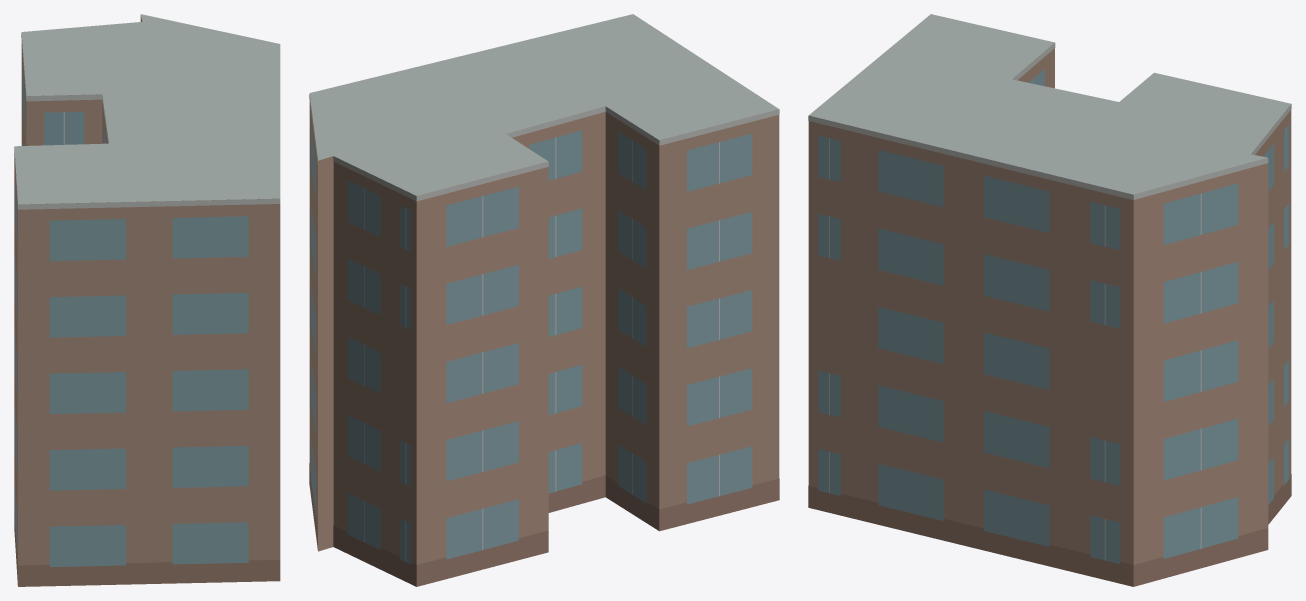
Rendered from survey-upis-32498516.glb.
The picture shows the model from 3 angles, left to right: view 1: azimuth 30°, elevation 25°; view 2: azimuth 150°, elevation 25°; view 3: azimuth 270°, elevation 25°; orthographic projection. The views are drawn at different scales.
Visible parts, largest first — view 1: survey-upis-32498516.tmp; view 2: survey-upis-32498516.tmp; view 3: survey-upis-32498516.tmp.
Part boxes in pixels (x1,y1,x2,y2): survey-upis-32498516.tmp: (14,14,280,586); survey-upis-32498516.tmp: (309,14,779,586); survey-upis-32498516.tmp: (808,14,1291,586).
Size of the model in its own units: 17.36 by 17.56 by 19.6.
